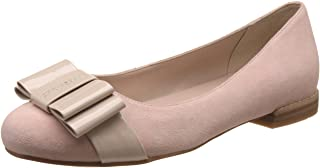shoes: (2, 1, 317, 166)
